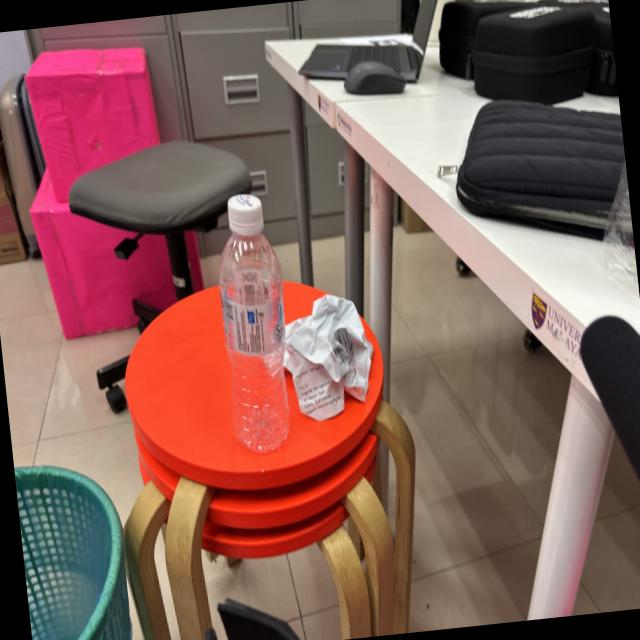crumpled_paper: (274, 272, 388, 440)
plastic_bottle: (202, 180, 306, 470)
